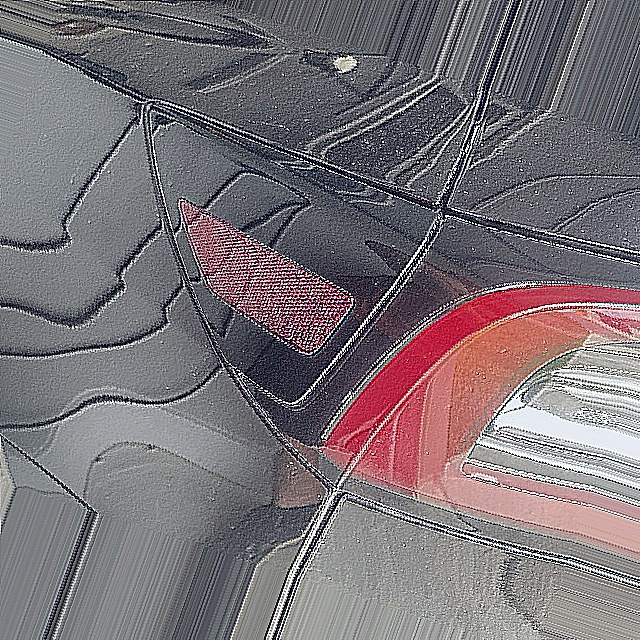reflector: (141, 197, 370, 363)
